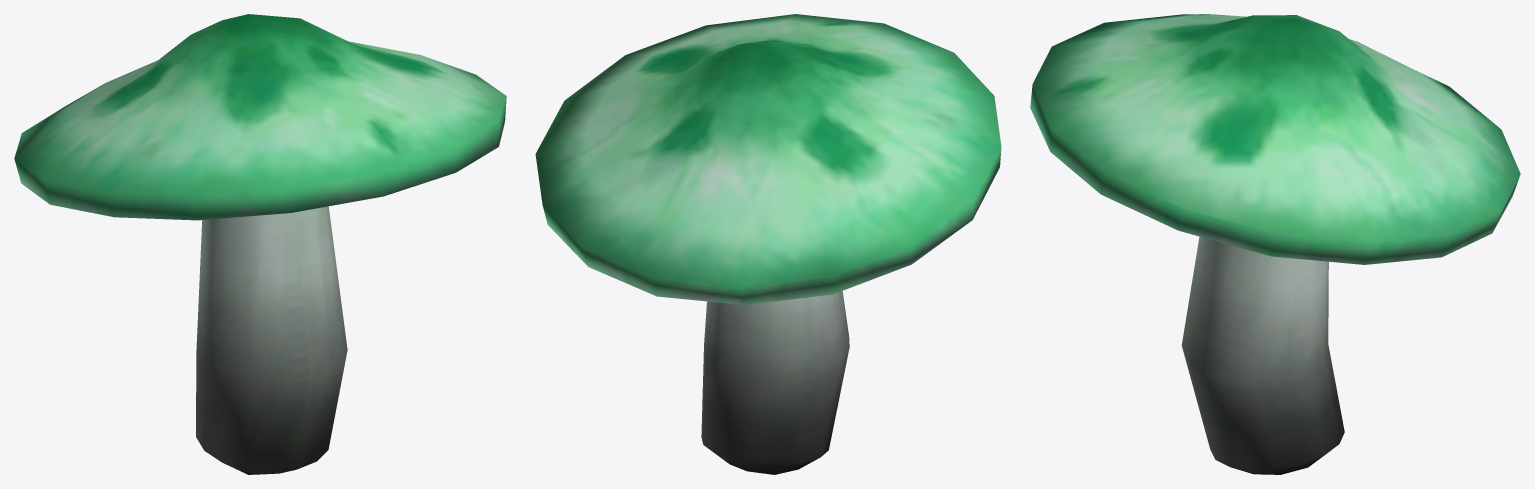
The model's file is INST_TROLLHOLE_SHROOMB4.fbx.
3 views of the same model, side by side, from view 1: azimuth 30°, elevation 25°; view 2: azimuth 150°, elevation 25°; view 3: azimuth 270°, elevation 25° (orthographic). The views are drawn at different scales.
Parts seen in each view (by area): view 1: INST_TROLLHOLE_SHROOMB4; view 2: INST_TROLLHOLE_SHROOMB4; view 3: INST_TROLLHOLE_SHROOMB4.
Boxes of the visible parts, x1,y1,x2,y2 form: INST_TROLLHOLE_SHROOMB4: (14, 14, 506, 474); INST_TROLLHOLE_SHROOMB4: (535, 14, 1001, 474); INST_TROLLHOLE_SHROOMB4: (1030, 14, 1520, 474).
Bounding box in the file's own units: 40011 × 39001 × 39395.
1 material, 1 textured.
